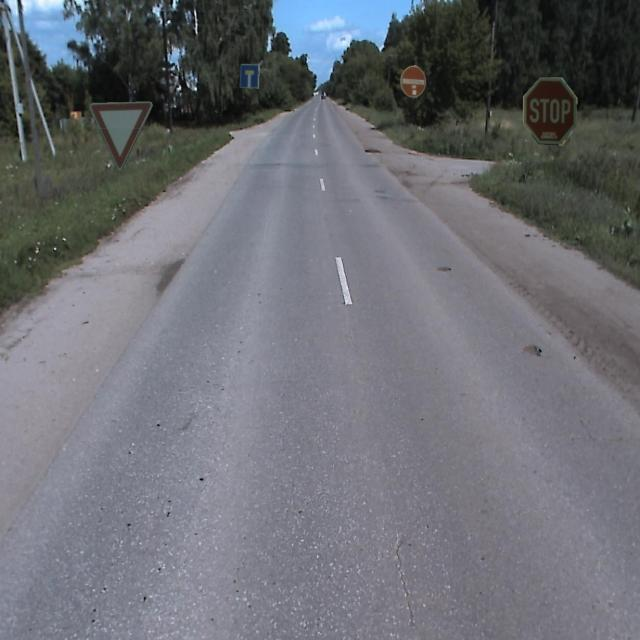road: (0, 97, 639, 639)
